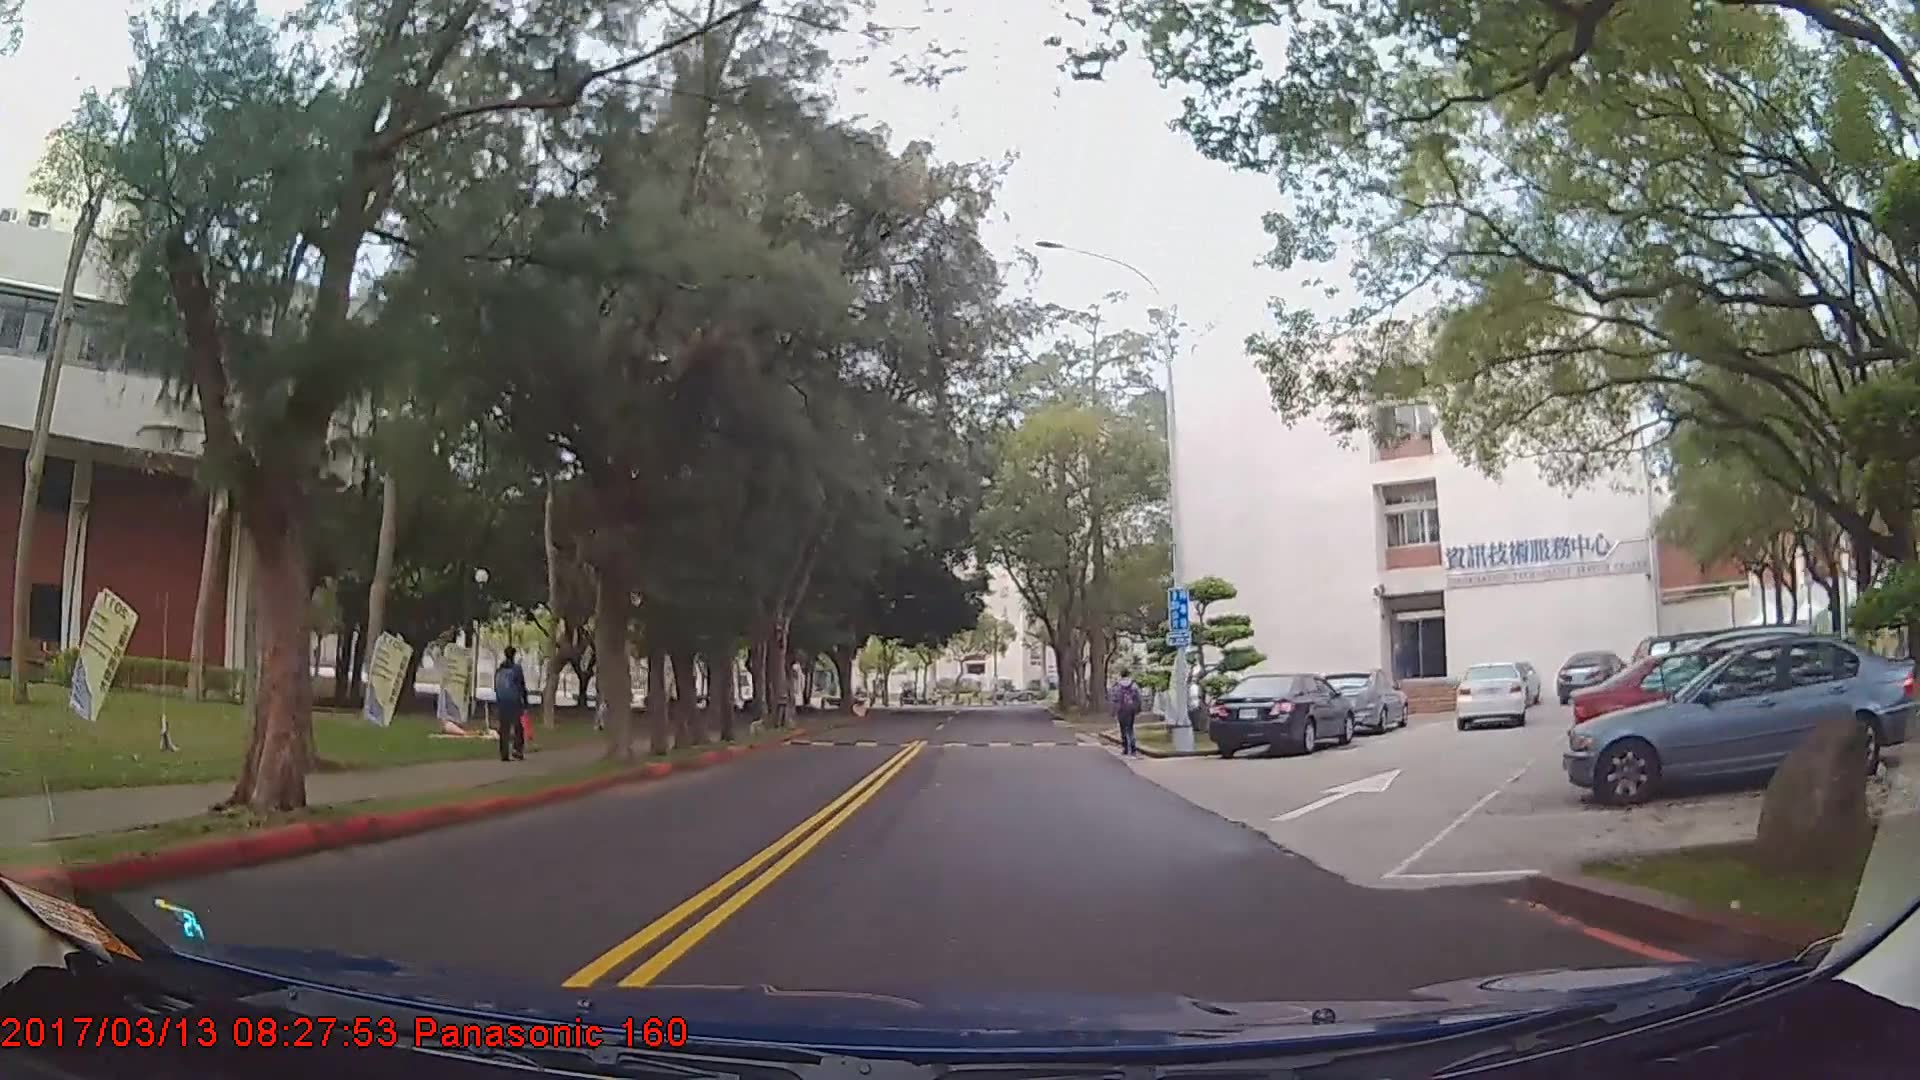pedestrian: (493, 648, 532, 764), (1112, 670, 1144, 758)
vehicle: (1562, 633, 1920, 810), (1568, 639, 1894, 765), (1208, 671, 1355, 759), (1316, 666, 1408, 733), (1456, 662, 1527, 730), (1555, 648, 1623, 702)
